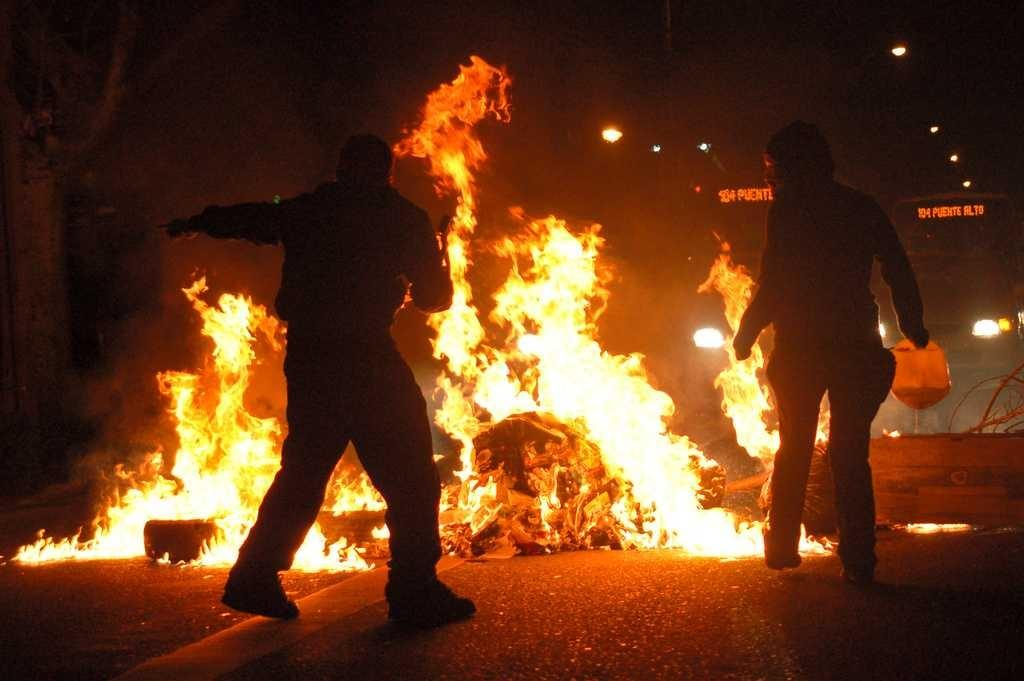fire: (177, 425, 268, 497), (545, 338, 605, 418), (615, 392, 660, 485), (668, 508, 738, 555), (100, 517, 142, 553)
